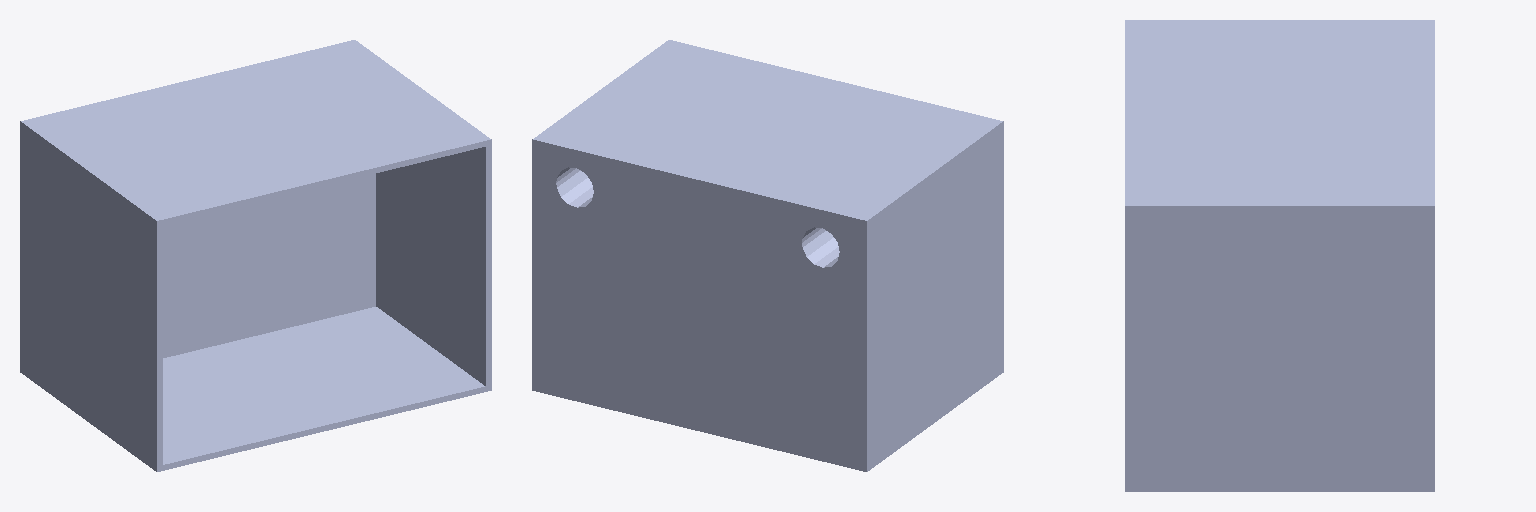
robot.urdf — Part1:
<?xml version="1.0"?>

<robot
  name="Part1">
  <link
    name="turtlebot_world">
    <inertial>
      <origin
        xyz="1.6811 -0.55929 1.1918"
        rpy="0 0 0" />
      <mass
        value="5806.9" />
      <inertia
        ixx="6148.39131227298"
        ixy="-0.71937952226709"
        ixz="-2.11248003478483"
        iyy="11071.9388979389"
        iyz="32.9290439778994"
        izz="9442.58158745421" />
    </inertial>
    <visual>
      <origin
        xyz="0 0 0"
        rpy="1.5707963267949 0 0" />
      <geometry>
        <mesh
          filename="package://turtlebot_world/meshes/turtlebot_world.STL" />
      </geometry>
      <material
        name="">
        <color
          rgba="0.79216 0.81961 0.93333 1" />
      </material>
    </visual>
    <collision>
      <origin
        xyz="0 0 0"
        rpy="1.5707963267949 0 0" />
      <geometry>
        <mesh
          filename="package://turtlebot_world/meshes/turtlebot_world_col.STL" />
      </geometry>
    </collision>
  </link>
</robot>

--- What the picture shows (computed from the rendered views, not written in the file) ---
3 views of the same robot in one strip: view 1: azimuth 30°, elevation 25°; view 2: azimuth 150°, elevation 25°; view 3: azimuth 270°, elevation 25° (orthographic).
Model Part1 with 1 links and 0 joints (none), rooted at turtlebot_world, posed all joints at 0.
Visible links, largest first — view 1: turtlebot_world; view 2: turtlebot_world; view 3: turtlebot_world.
Boxes of the visible links, x1,y1,x2,y2 form: turtlebot_world: (20,40,491,471); turtlebot_world: (532,40,1003,471); turtlebot_world: (1125,20,1434,491).
Bounding box of the posed robot: 3.54 × 2.5 × 2.54 m (x, y, z).
1 mesh visuals loaded from 1 distinct referenced files (1 binary STL).